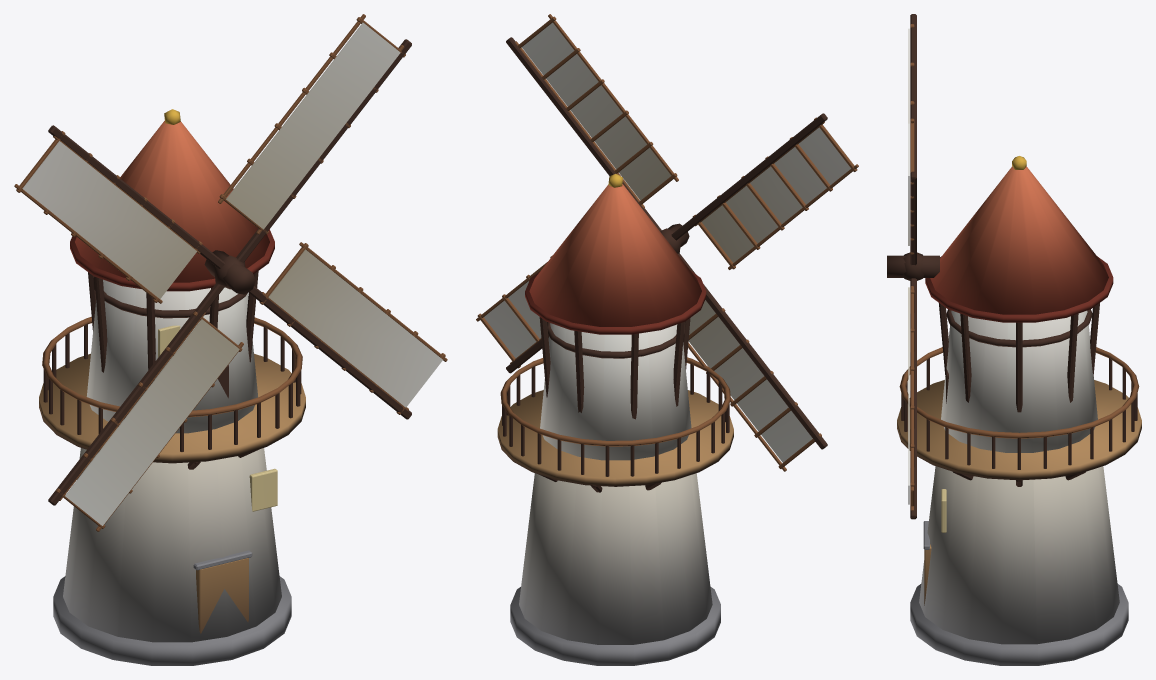
Rendered from windmill.glb.
3 renders of one model, left to right at view 1: azimuth 30°, elevation 25°; view 2: azimuth 150°, elevation 25°; view 3: azimuth 270°, elevation 25°, orthographic. The views are drawn at different scales.
Parts seen in each view (by area): view 1: Tower, SailsMesh; view 2: Tower, SailsMesh; view 3: Tower, SailsMesh.
Part boxes in pixels (<box>): Tower: <box>39,109,305,665</box>; SailsMesh: <box>14,14,447,531</box>; Tower: <box>497,174,733,665</box>; SailsMesh: <box>476,14,858,471</box>; Tower: <box>887,156,1141,665</box>; SailsMesh: <box>903,14,923,519</box>.
Bounding box in the file's own units: 6.91 × 9.35 × 3.85.
